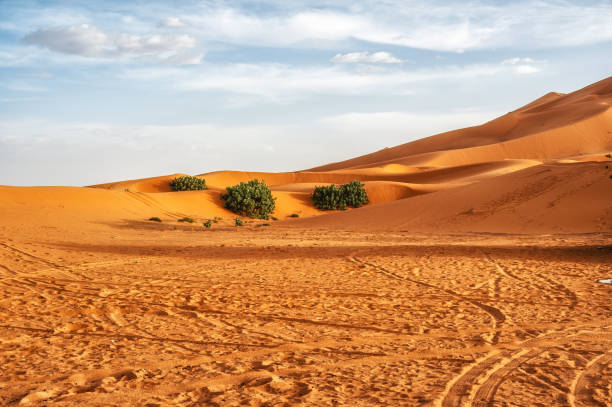vehicle_track: (348, 255, 506, 343), (434, 325, 605, 406), (189, 345, 489, 388), (0, 242, 140, 298), (0, 243, 144, 282), (159, 305, 295, 341), (471, 349, 543, 406), (0, 242, 90, 279), (567, 351, 611, 406), (105, 307, 167, 341), (61, 258, 140, 282), (530, 273, 577, 308), (535, 273, 577, 308), (128, 192, 184, 218), (481, 250, 521, 280), (0, 264, 16, 276)
